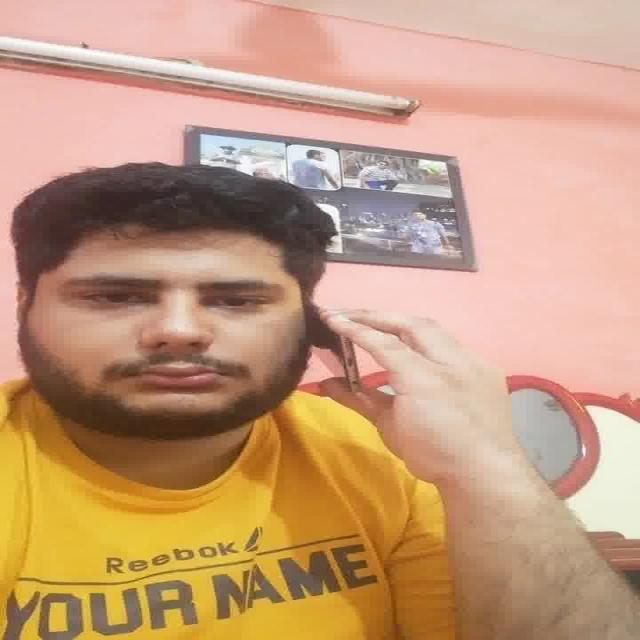Phone: (313, 297, 367, 395)
